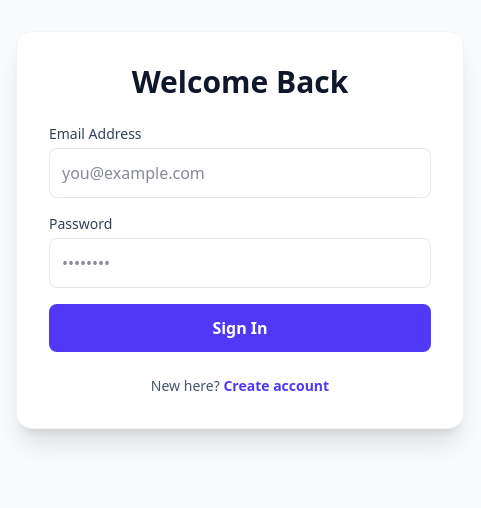
Test case: App basic navigation › shows login and navigates to signup
This screenshot has width=481, height=508.
Expected: the heading "Welcome Back" is shown, [132,61,348,102]
What coordinates should you click on to do the following:
click the link "Create account"
I would click on:
 (276, 386)
Its box is [223,376,329,395].
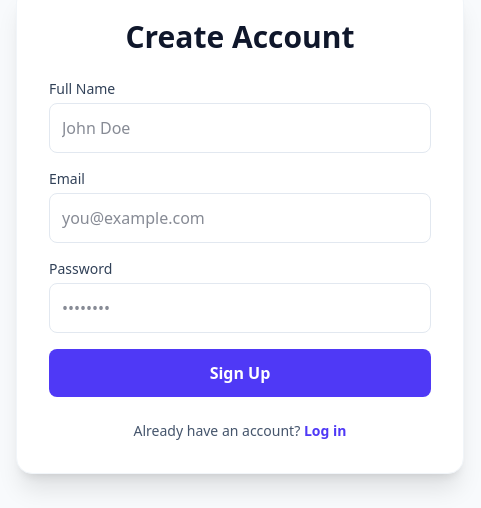
Expected: the heading "Create Account" is shown, [126,16,355,57]
